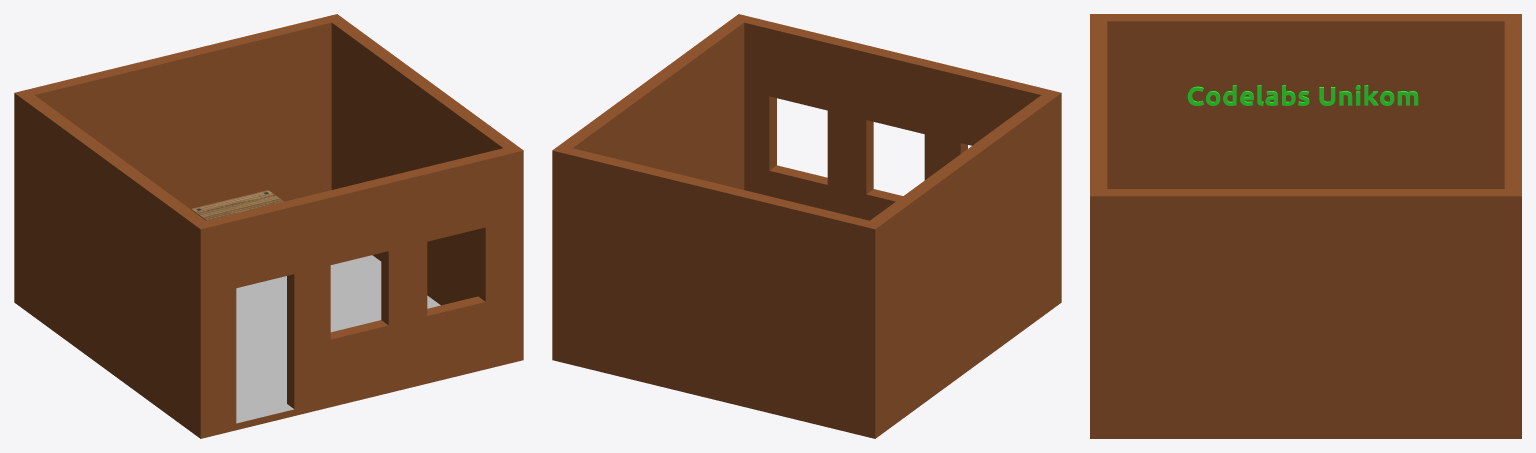
The model's file is belajar sketchup.fbx.
3 renders of one model, left to right at view 1: azimuth 30°, elevation 25°; view 2: azimuth 150°, elevation 25°; view 3: azimuth 270°, elevation 25°, orthographic. The views are drawn at different scales.
Parts seen in each view (by area): view 1: Model, Group2; view 2: Model; view 3: Model, Codelabs_Unikom1.
Part boxes in pixels (bbox=[...]): Model: bbox=[14, 14, 523, 438]; Group2: bbox=[191, 190, 283, 220]; Model: bbox=[552, 14, 1061, 438]; Model: bbox=[1090, 14, 1521, 438]; Codelabs_Unikom1: bbox=[1187, 85, 1418, 105].
Bounding box in the file's own units: 500 × 310 × 500.
